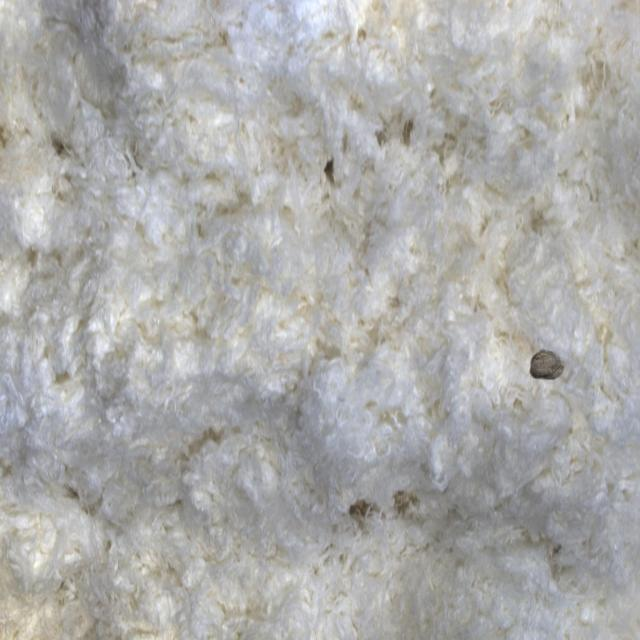dust: (512, 300, 592, 414)
